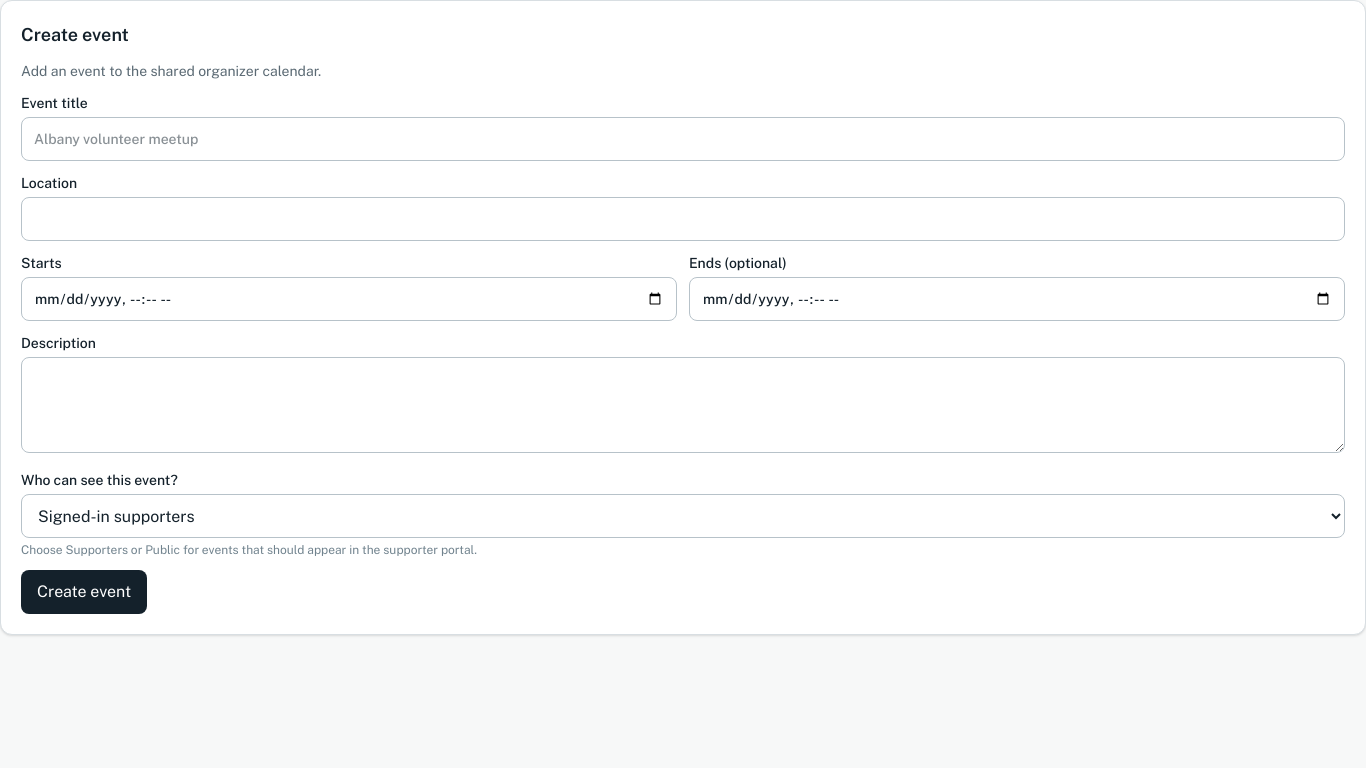
Scenario: EventForm › restores every submitted field after an action-level failure
Step 1. Type "Capital District volunteer night" into the field labelled "Event title" → [683, 139], box [21,117,1345,161]
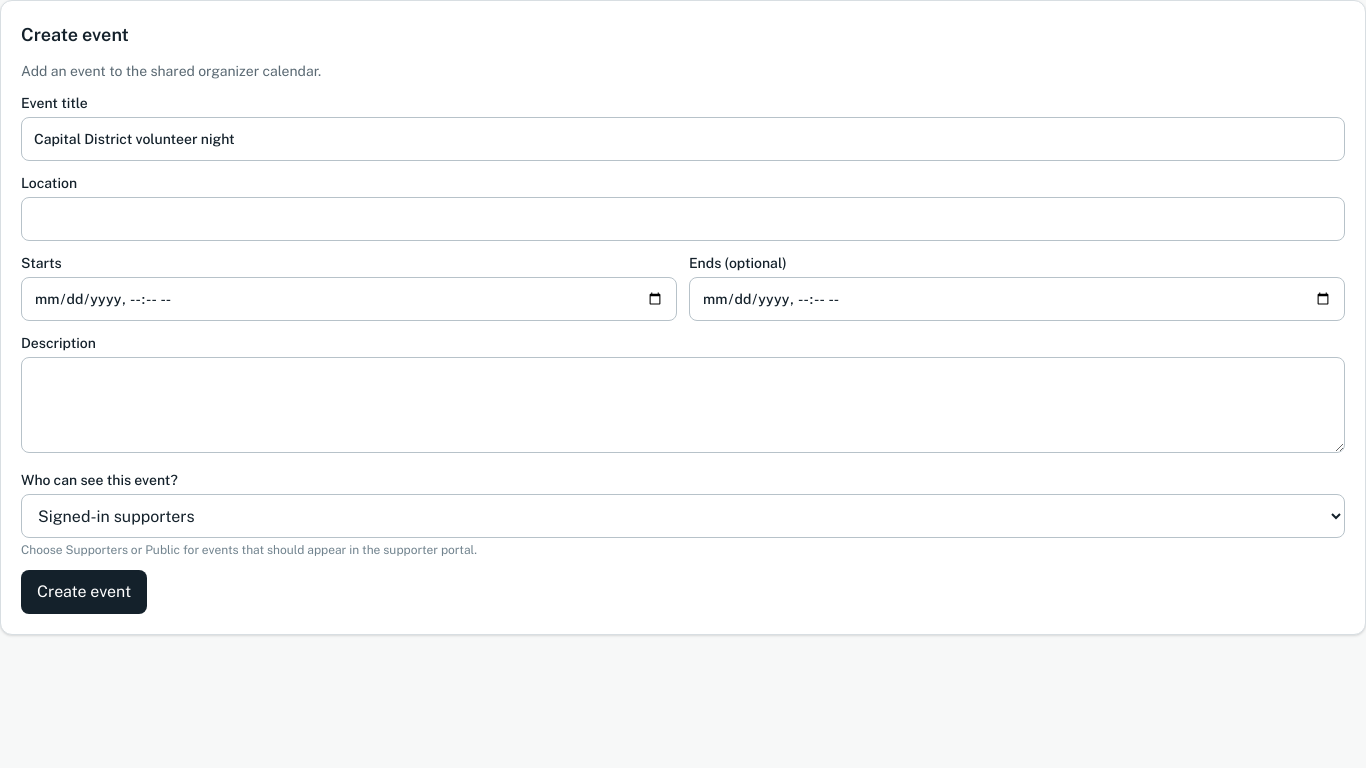
Step 2. Type "Albany field office" into the field labelled "Location" → [683, 219], box [21,197,1345,241]
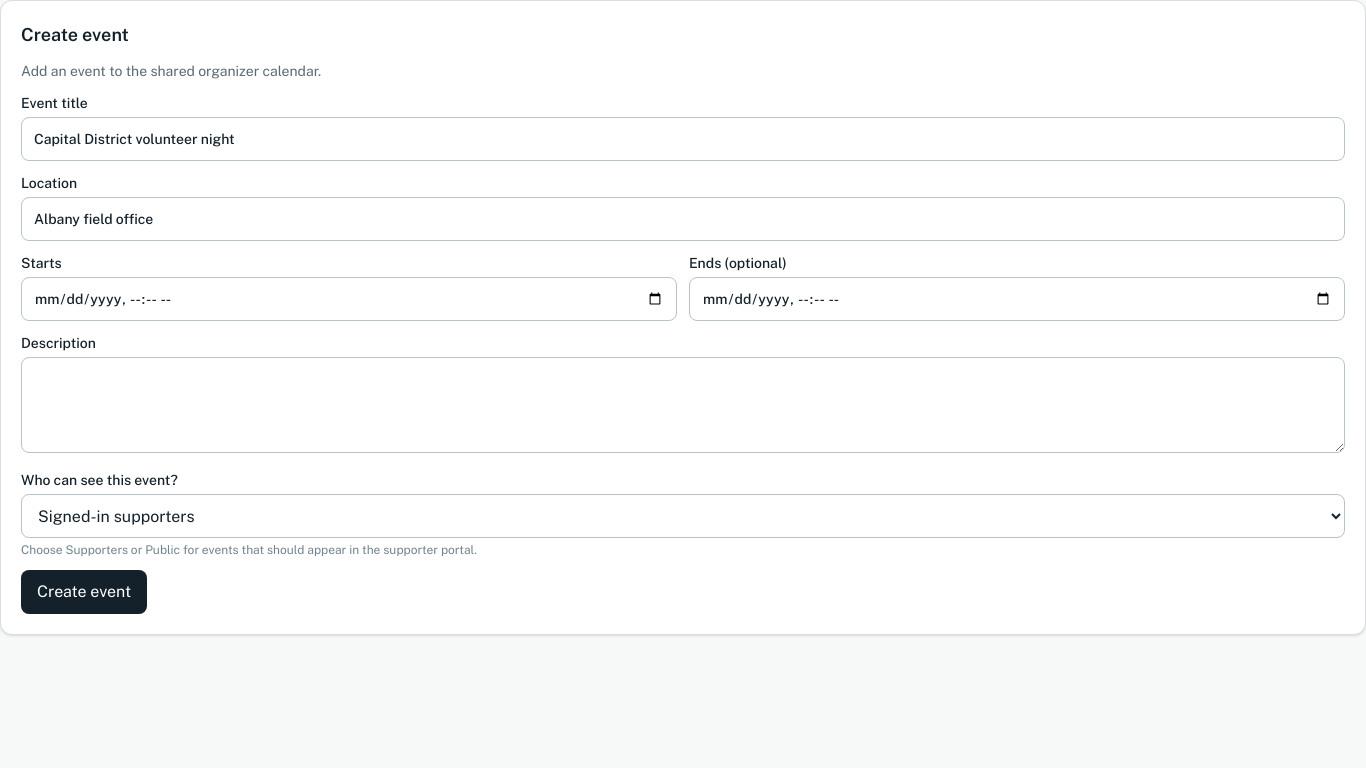
Step 3. Type "2026-09-10T18:30" into the field labelled "Starts" → [349, 299], box [21,277,677,321]
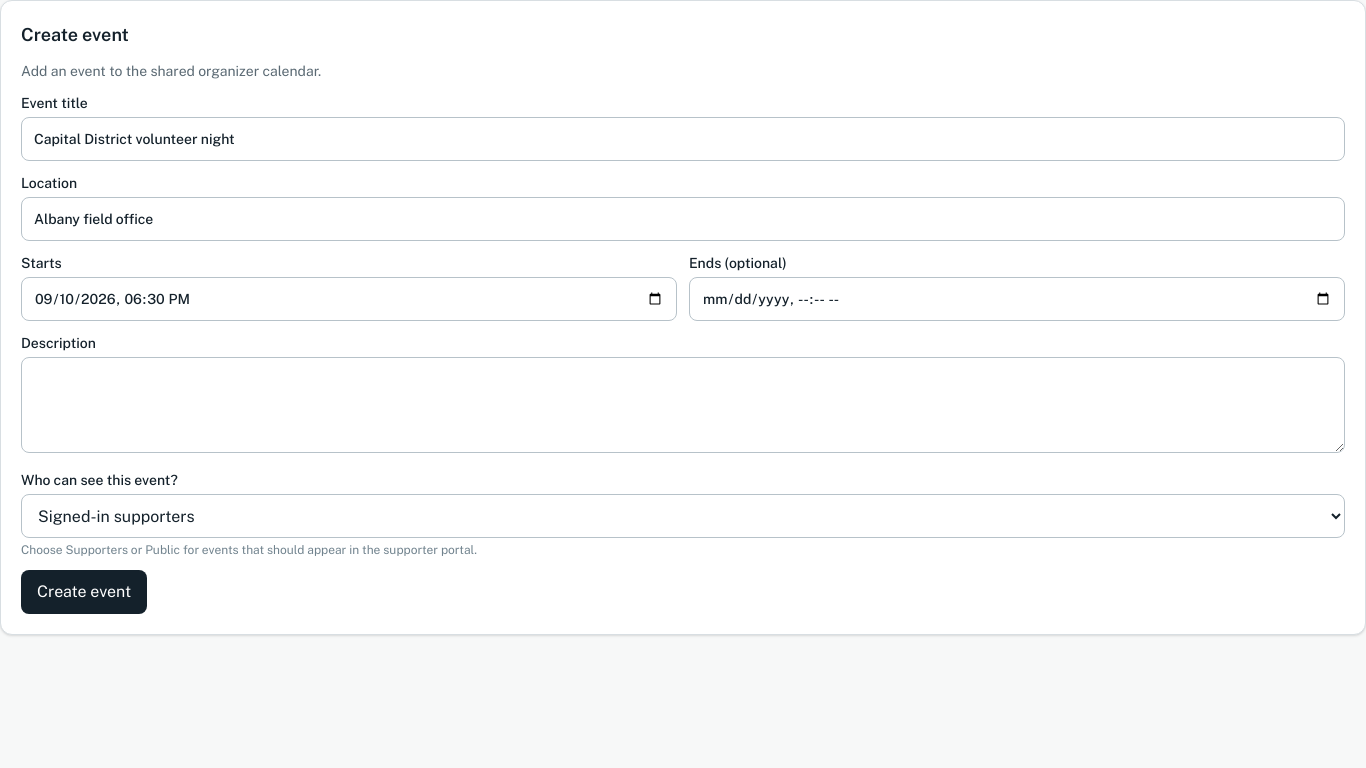
Step 4. Type "2026-09-10T20:00" into the field labelled "Ends (optional)" → [1017, 299], box [689,277,1345,321]
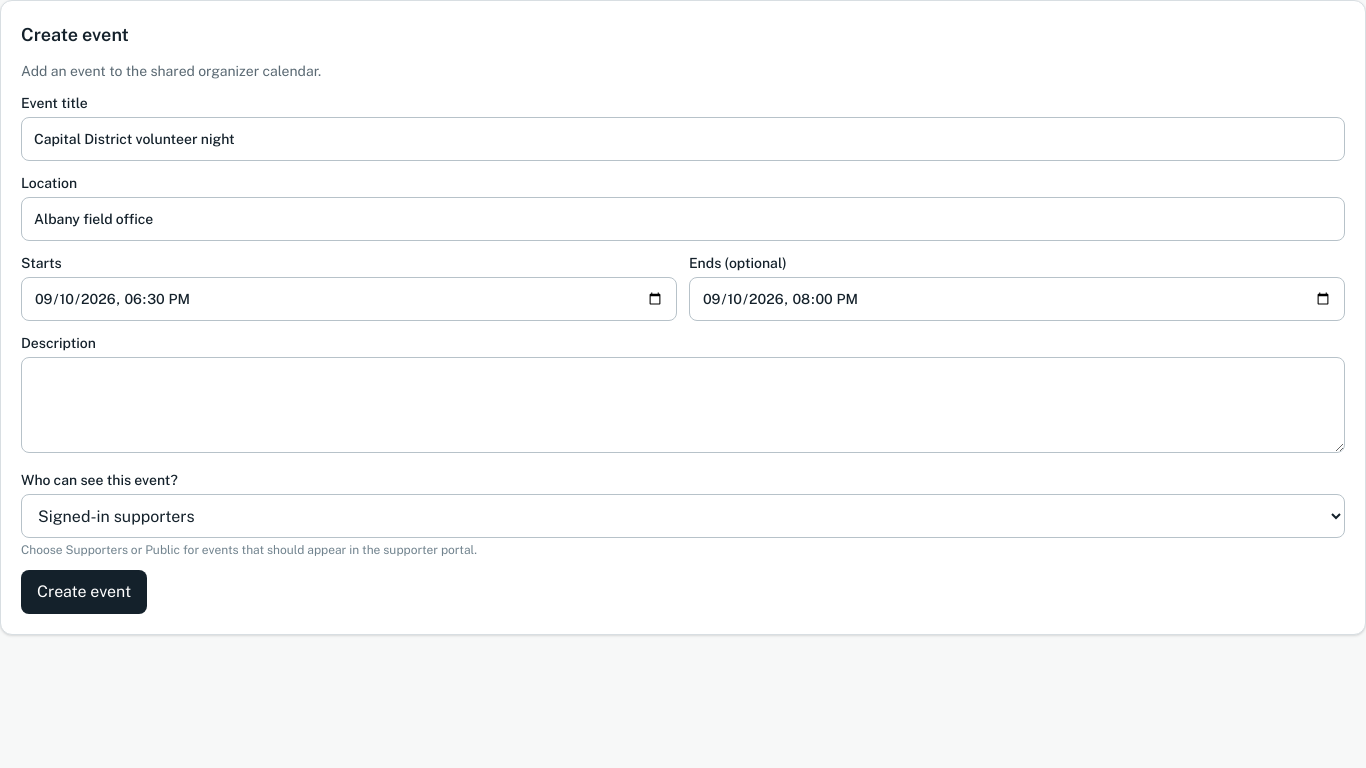
Step 5. Type "Orientation, phone banking, and pizza." into the text box labelled "Description" → [683, 405], box [21,357,1345,453]
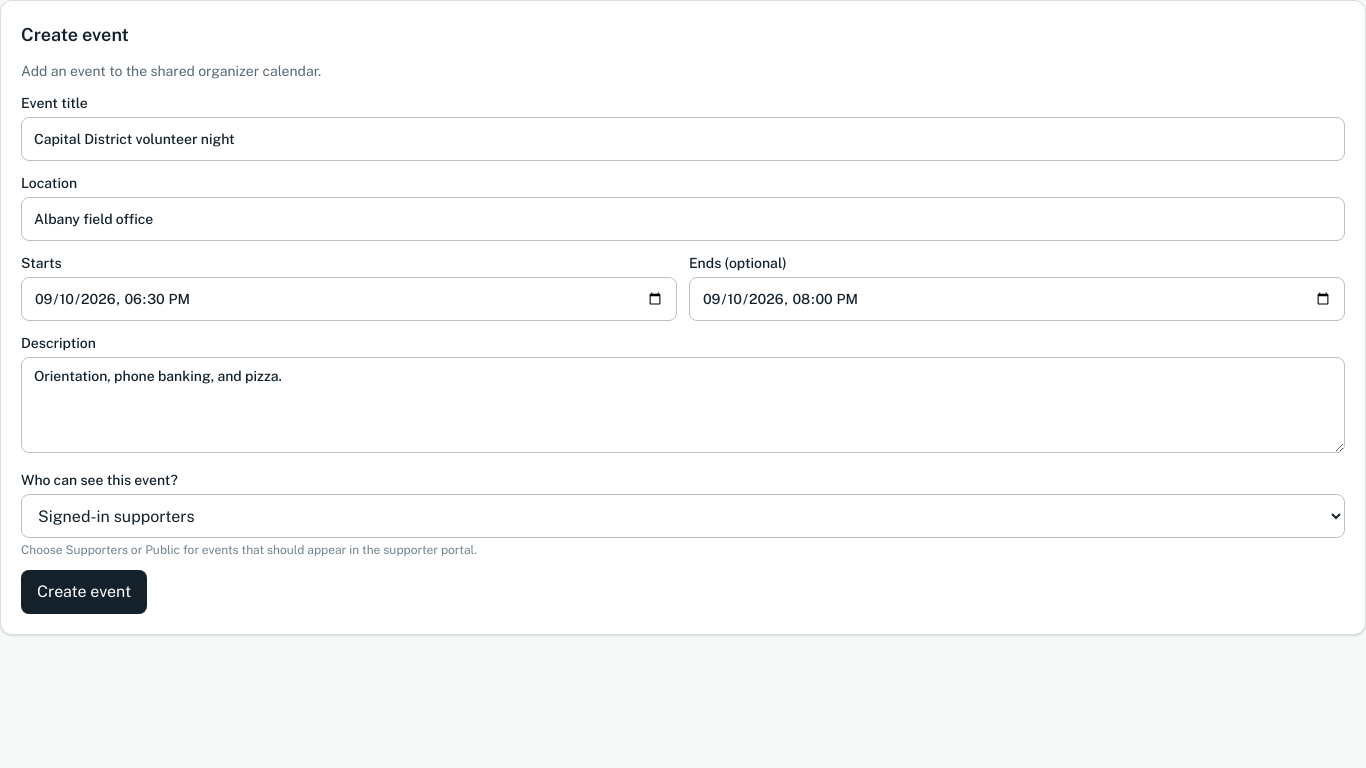
Step 6. Select "Signed-in supporters" in the dropdown labelled "Who can see this event?" → [683, 516], box [21,494,1345,538]
Step 7. Submit the form "Create event"
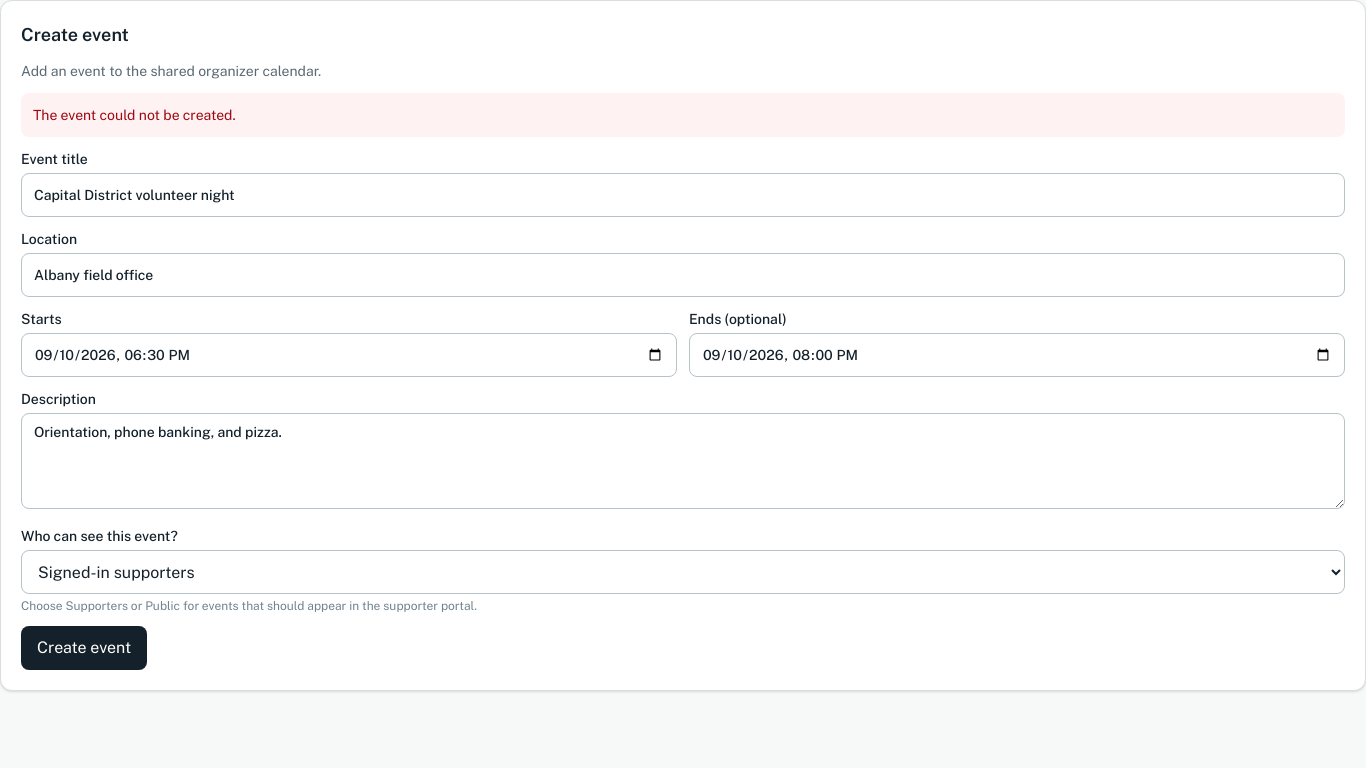
Expected: the text "The event could not be created." is shown, [21,93,1345,137]
